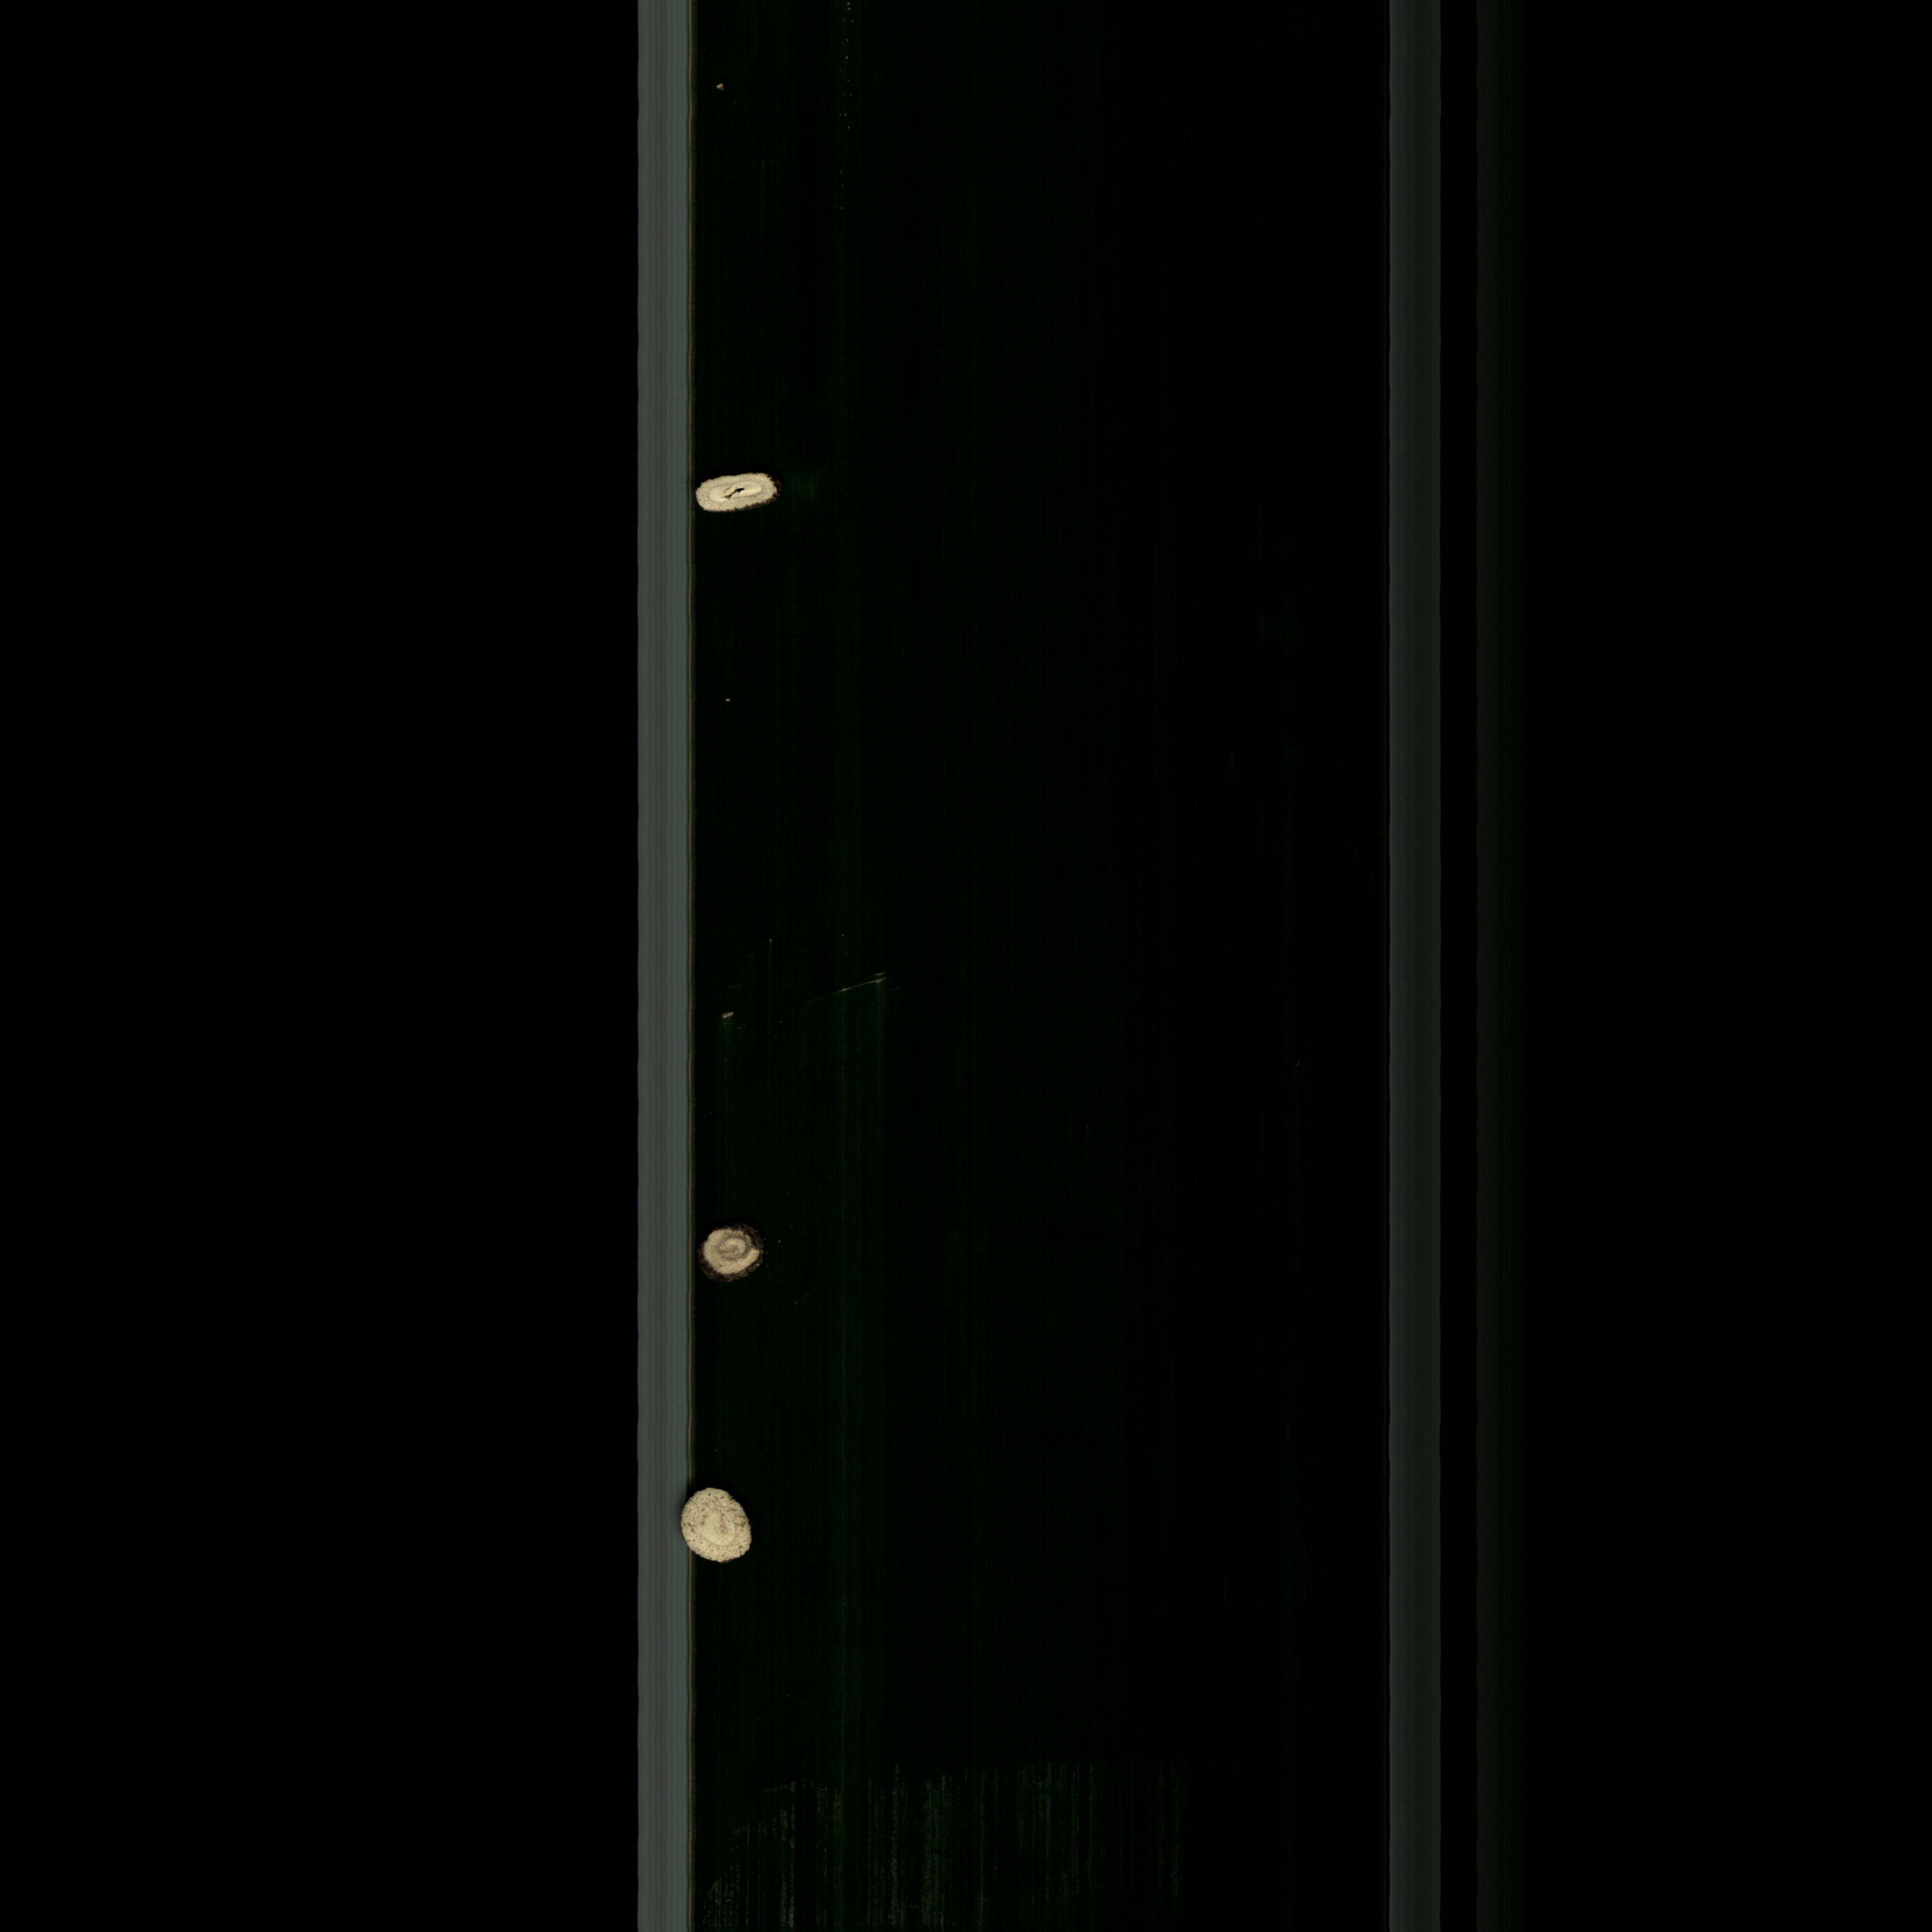hole: (692, 472, 786, 515)
moldy: (692, 1224, 784, 1283)
